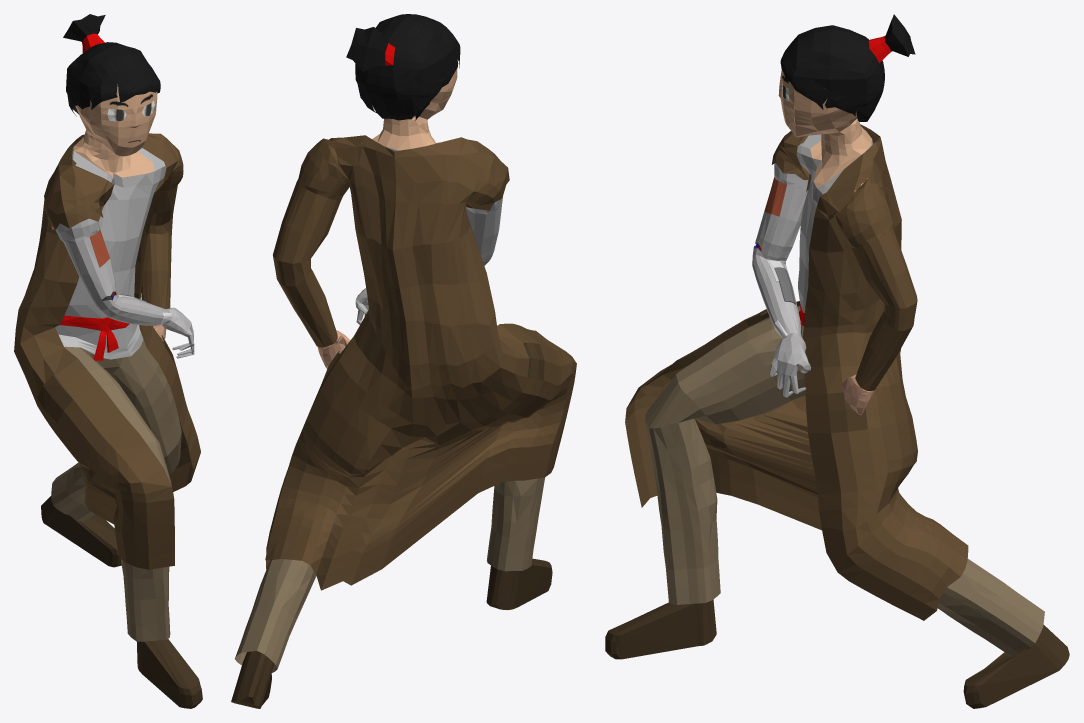
The model's file is One_DR_000004.obj.
The picture shows the model from 3 angles, left to right: view 1: azimuth 30°, elevation 25°; view 2: azimuth 150°, elevation 25°; view 3: azimuth 270°, elevation 25°; orthographic projection. The views are drawn at different scales.
Parts seen in each view (by area): view 1: Hair_Cube.004; view 2: Hair_Cube.004; view 3: Hair_Cube.004.
Part boxes in pixels (<box>): Hair_Cube.004: <box>14,14,202,708</box>; Hair_Cube.004: <box>231,14,576,708</box>; Hair_Cube.004: <box>605,14,1069,708</box>.
Bounding box in the file's own units: 1.17 × 3.51 × 2.27.
